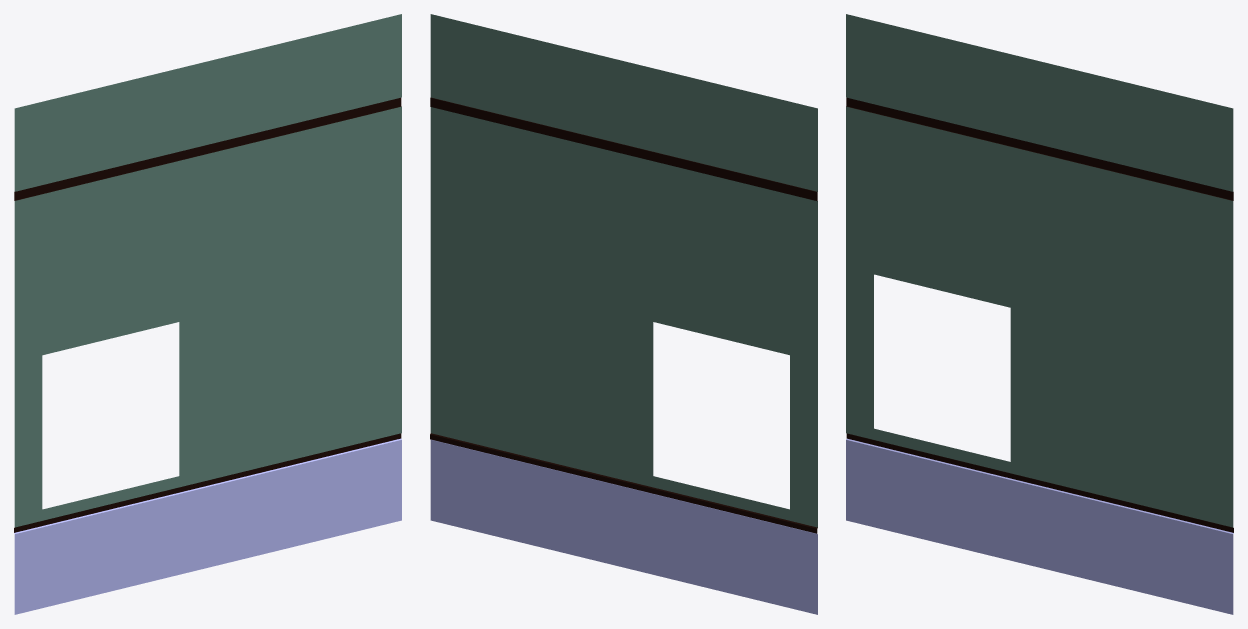
Rendered from WallWcWindow.fbx.
3 renders of one model, left to right at view 1: azimuth 30°, elevation 25°; view 2: azimuth 150°, elevation 25°; view 3: azimuth 330°, elevation 25°, orthographic.
Parts seen in each view (by area): view 1: WallWcWindow2; view 2: WallWcWindow2; view 3: WallWcWindow2.
Boxes of the visible parts, bbox=[...] form: WallWcWindow2: bbox=[14, 14, 401, 614]; WallWcWindow2: bbox=[430, 14, 817, 614]; WallWcWindow2: bbox=[846, 14, 1233, 614].
Size of the model in its own units: 400 by 500 by 1.03.
